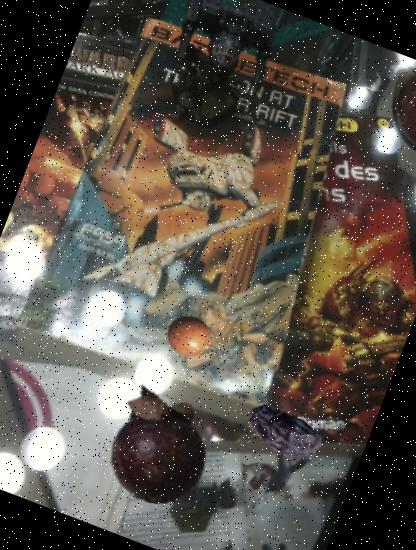Dates: (232, 382, 335, 485)
Granadilla: (156, 300, 236, 380)
Mangostan: (82, 368, 236, 522)
